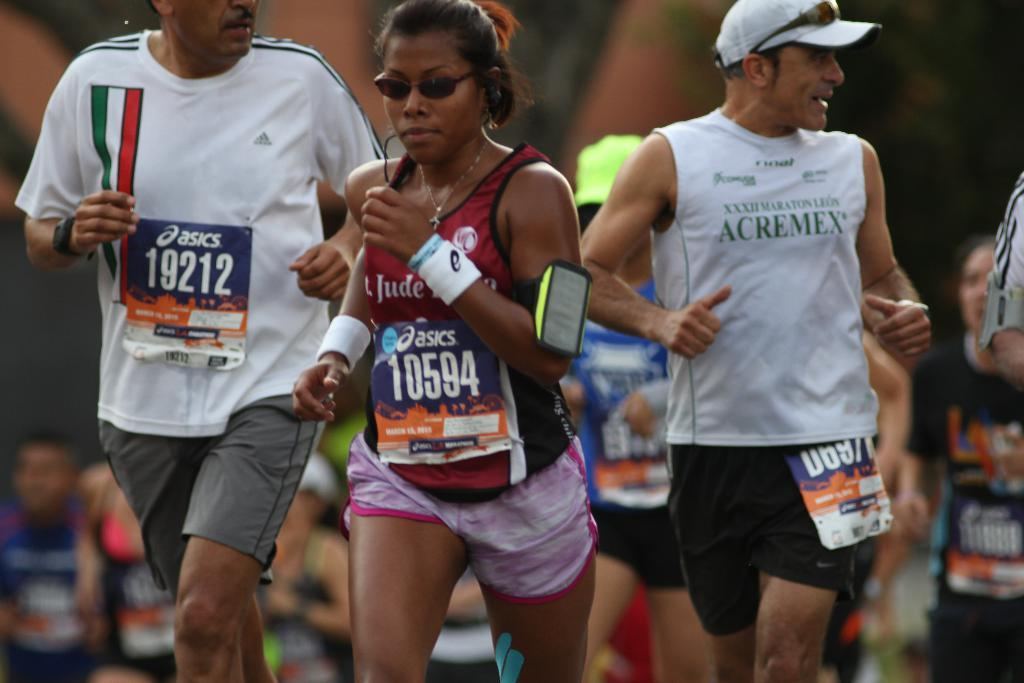Hat: (713, 0, 886, 69), (574, 132, 648, 207)
